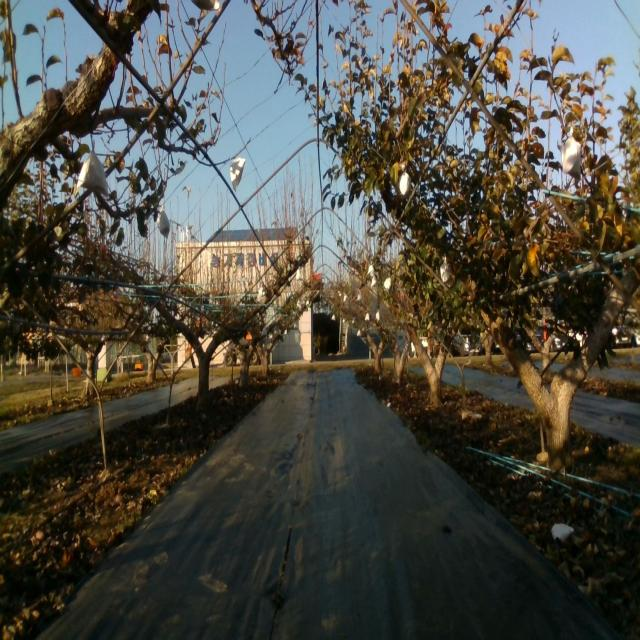pearbags: (76, 150, 108, 197), (562, 130, 584, 180), (229, 158, 246, 193), (157, 206, 170, 243), (398, 173, 412, 201), (439, 258, 450, 284)
